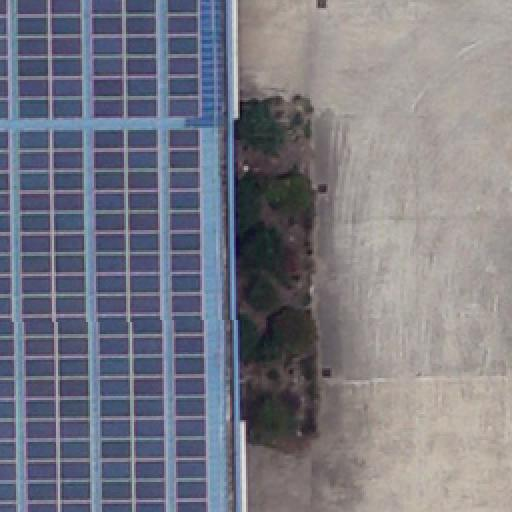solar-panel: (91, 129, 165, 511), (20, 132, 92, 512), (169, 129, 207, 511), (90, 0, 162, 120), (16, 0, 84, 122), (0, 132, 16, 512), (167, 0, 201, 120), (0, 0, 8, 122)
